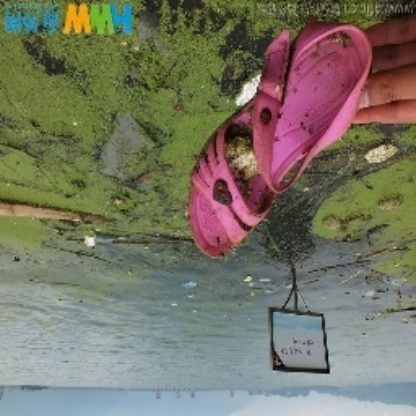plastic-garbage: (175, 21, 374, 258)
